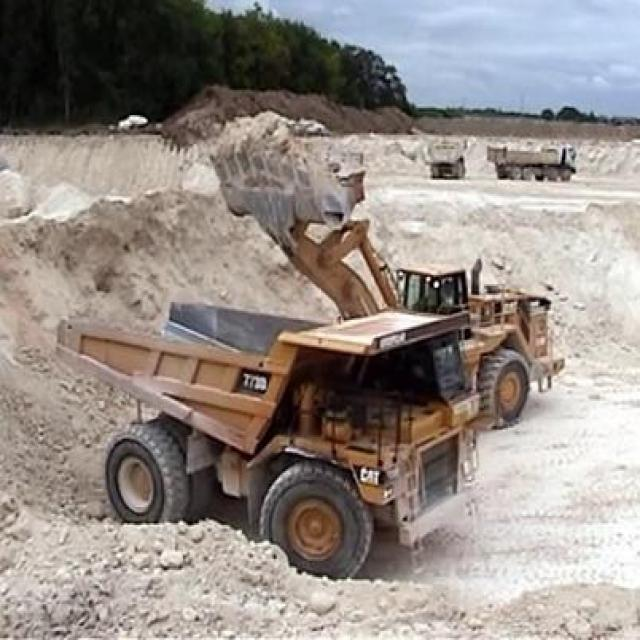Dump Truck: (51, 290, 479, 580)
Loader: (212, 140, 565, 428)
